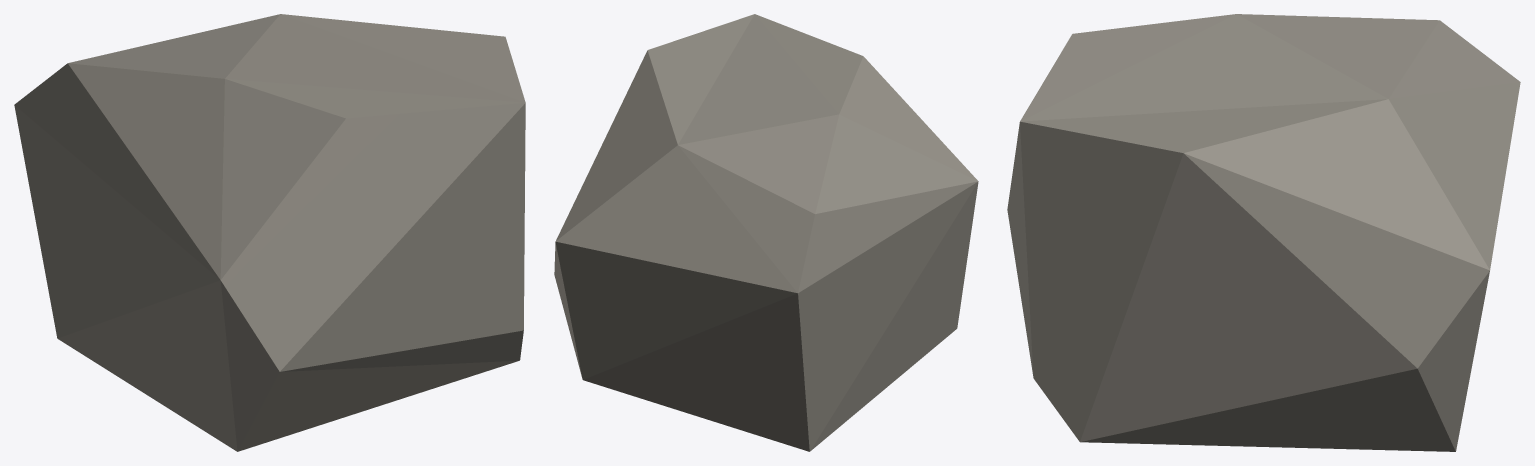
File: Rock_5.glb
The picture shows the model from 3 angles, left to right: view 1: azimuth 30°, elevation 25°; view 2: azimuth 150°, elevation 25°; view 3: azimuth 270°, elevation 25°; orthographic projection. The views are drawn at different scales.
Parts seen in each view (by area): view 1: Rock_15_LOD0; view 2: Rock_15_LOD0; view 3: Rock_15_LOD0.
Boxes of the visible parts, x1,y1,x2,y2 form: Rock_15_LOD0: (14,14,525,451); Rock_15_LOD0: (554,14,978,451); Rock_15_LOD0: (1007,14,1520,451).
Size of what is drawn, in the model's own units: 0.358 by 0.3167 by 0.4192.
Materials: 1 (1 with a texture image).
